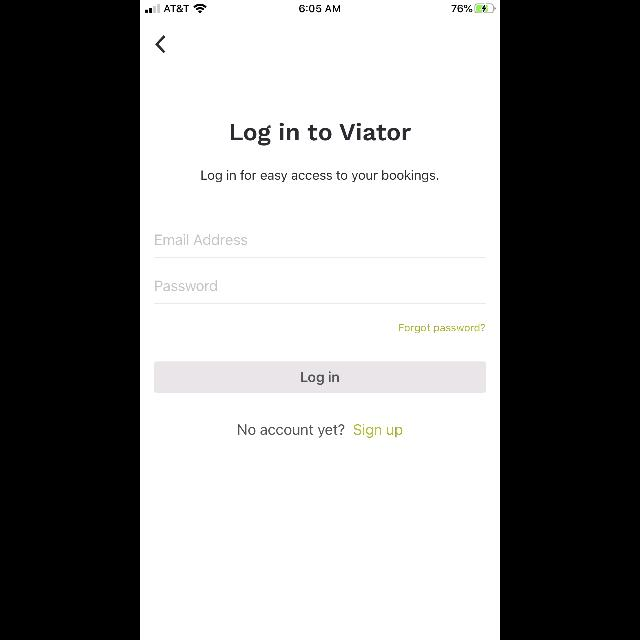icon: (155, 36, 165, 54)
input: (154, 280, 486, 304), (154, 234, 486, 258)
text: (231, 122, 411, 146), (202, 170, 438, 182), (238, 424, 402, 438), (155, 234, 247, 246), (399, 324, 485, 334), (155, 280, 217, 292)
textbutton: (154, 362, 486, 392)
uppertaskbar: (140, 0, 500, 14)
